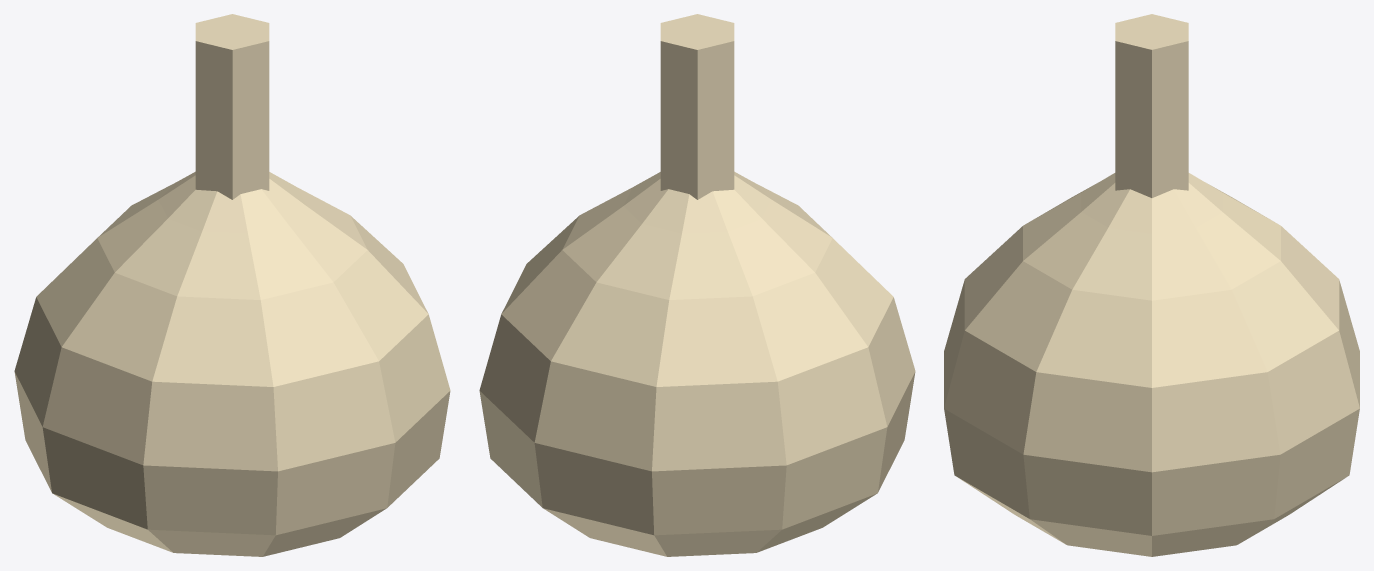
The model's file is SM_LPI_Food_Onion_01.fbx.
The picture shows the model from 3 angles, left to right: view 1: azimuth 30°, elevation 25°; view 2: azimuth 150°, elevation 25°; view 3: azimuth 270°, elevation 25°; orthographic projection.
Parts seen in each view (by area): view 1: SM_LPI_Food_Onion_01; view 2: SM_LPI_Food_Onion_01; view 3: SM_LPI_Food_Onion_01.
Part boxes in pixels (box(x1,y1,x2,y2)): SM_LPI_Food_Onion_01: box(14, 14, 450, 556); SM_LPI_Food_Onion_01: box(479, 14, 915, 556); SM_LPI_Food_Onion_01: box(944, 14, 1359, 556).
Size of the model in its own units: 0.072 by 0.088 by 0.0685.
